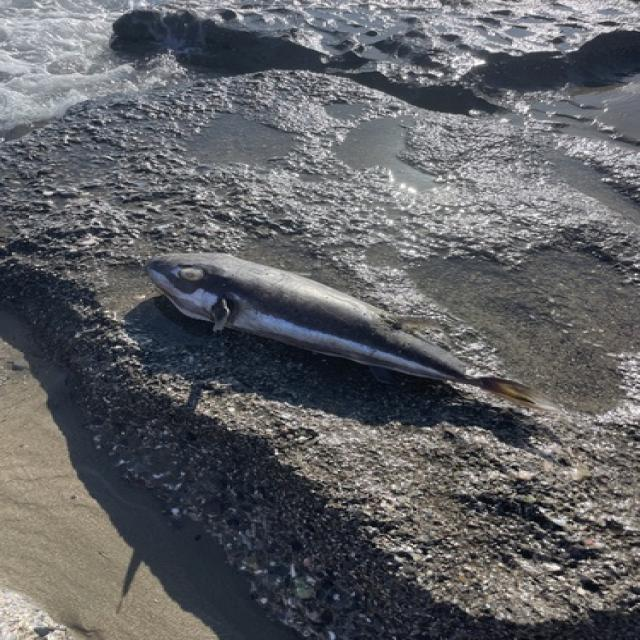Balik: (147, 254, 559, 410)
